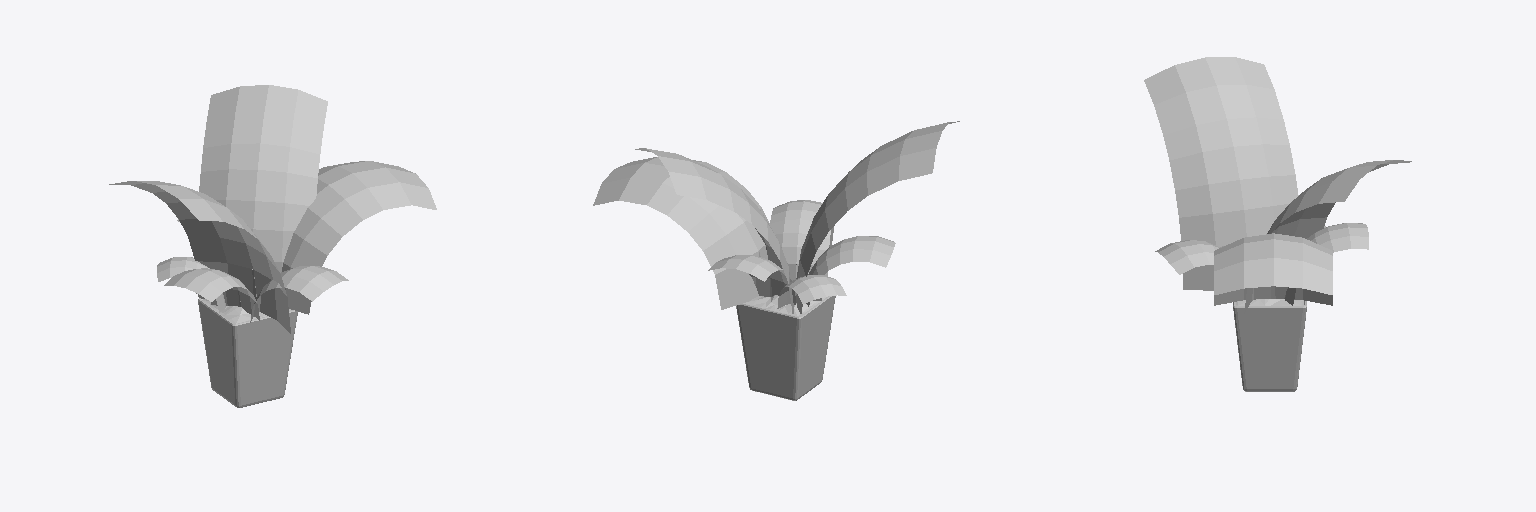
Rendered from RUBBER PLANT.obj.
3 views of the same model, side by side, from view 1: azimuth 30°, elevation 25°; view 2: azimuth 150°, elevation 25°; view 3: azimuth 270°, elevation 25° (orthographic).
Parts seen in each view (by area): view 1: Monstera102, Monstera1, Monstera101, Pot, Monstera104, Monstera103, Monstera105; view 2: Monstera1, Pot, Monstera101, Monstera102, Monstera103, Monstera104, Monstera106, Monstera105, mud; view 3: Monstera101, Monstera1, Pot, Monstera102, Monstera106, Monstera103.
Part boxes in pixels (x1,y1,x2,y2): Monstera102: (196,85,327,293); Monstera1: (282,161,436,314); Monstera101: (109,181,290,333); Pot: (198,298,297,407); Monstera104: (164,268,259,320); Monstera103: (250,266,348,322); Monstera105: (157,257,225,312); Monstera1: (593,157,769,309); Pot: (736,296,835,400); Monstera101: (796,121,959,313); Monstera102: (635,148,793,313); Monstera103: (770,200,830,280); Monstera104: (806,236,895,306); Monstera106: (708,255,795,304); Monstera105: (777,275,846,308); mud: (744,295,825,316); Monstera101: (1144,57,1298,290); Monstera1: (1214,233,1332,305); Pot: (1233,301,1306,391); Monstera102: (1244,160,1411,313); Monstera106: (1284,223,1368,305); Monstera103: (1155,240,1219,274).
Size of the model in its own units: 46.72 by 37.41 by 35.14.